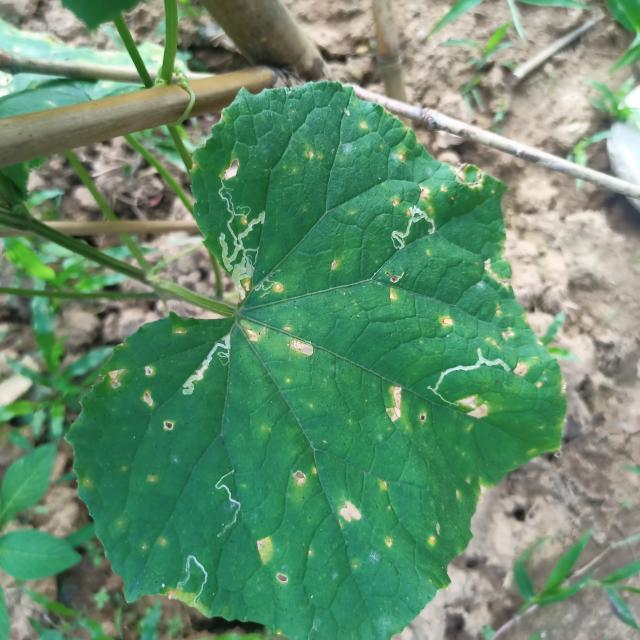disease_cucumber: (106, 363, 177, 437), (480, 258, 530, 350), (417, 160, 486, 210), (255, 534, 294, 590), (382, 386, 429, 430), (455, 391, 490, 434), (516, 354, 553, 392), (282, 326, 318, 363), (240, 319, 270, 347), (292, 463, 320, 491), (338, 498, 364, 528), (384, 272, 406, 302), (425, 520, 445, 549), (304, 144, 323, 164), (173, 325, 194, 341), (440, 315, 454, 331), (273, 282, 287, 296), (356, 119, 369, 134), (148, 474, 158, 485), (243, 282, 254, 292)
